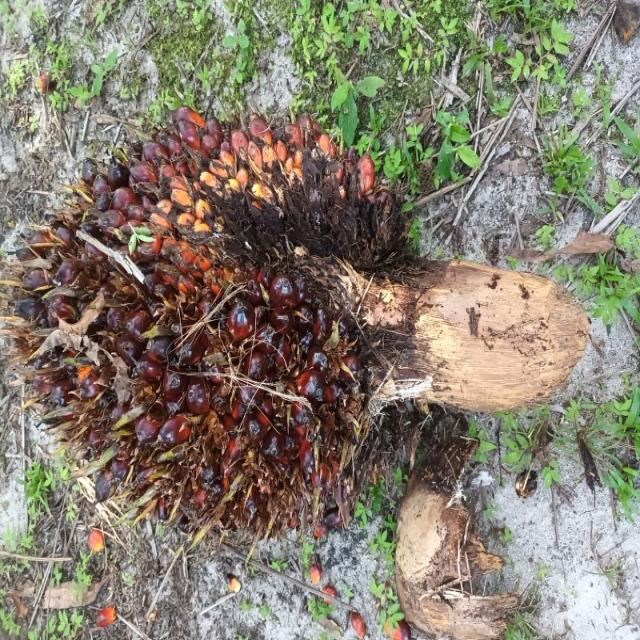fraksi 1: (11, 57, 450, 546)
